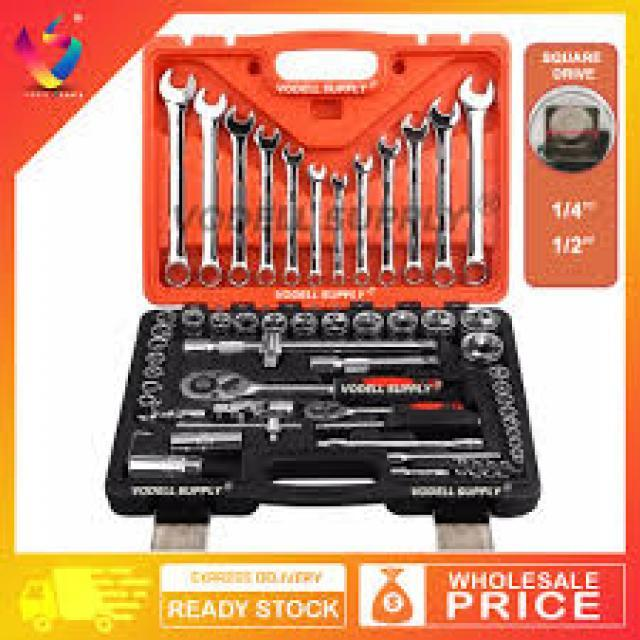wrench: (152, 64, 202, 293), (188, 86, 232, 289), (457, 71, 497, 286), (222, 104, 261, 290), (429, 92, 466, 286), (398, 110, 434, 284), (252, 121, 285, 288), (372, 132, 406, 286), (276, 142, 310, 288), (350, 148, 378, 288), (304, 160, 330, 291), (326, 166, 353, 287)
